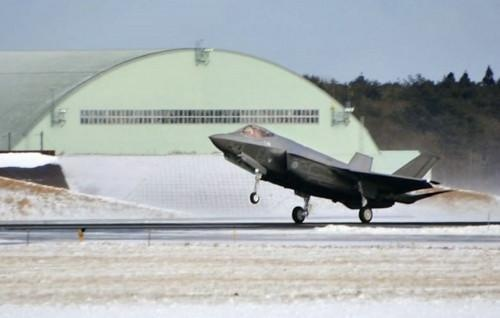airplane: (205, 118, 446, 225)
